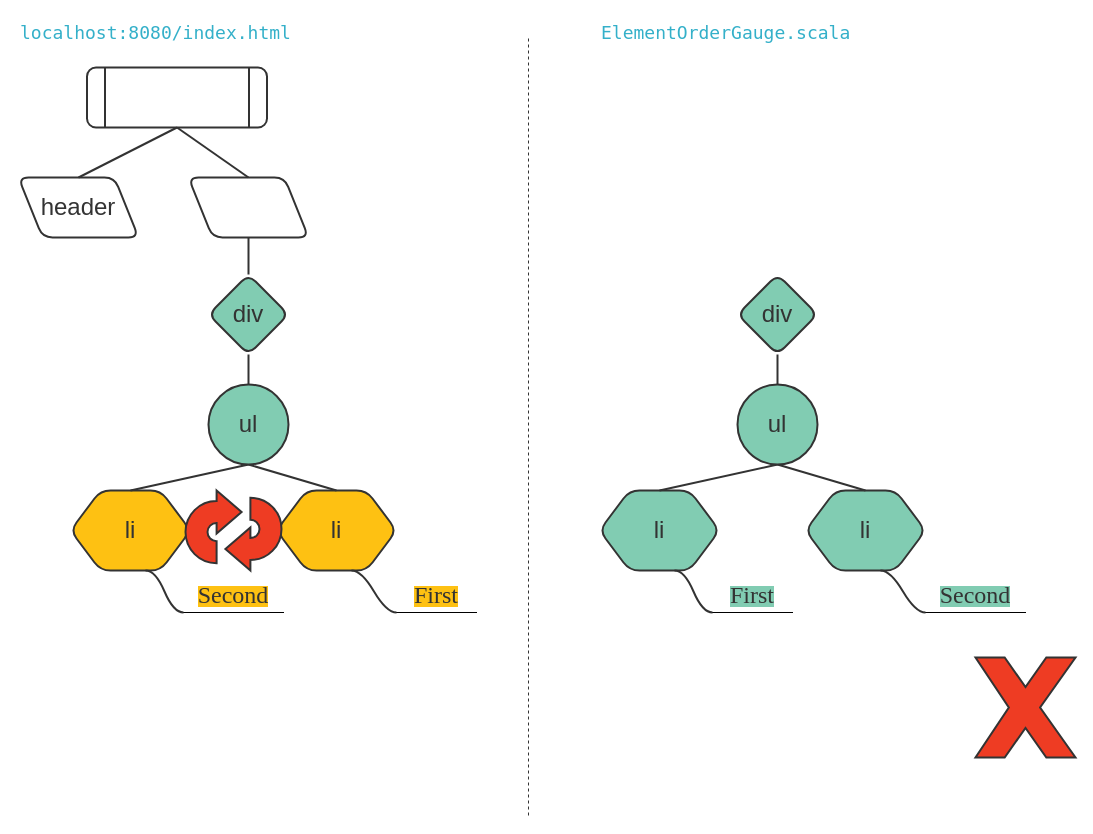
This 1093x834 diagram has some shape labels left out. Here are the shapes that lost their labels. From the top down, the box of each, then its label:
(86, 66, 268, 128): document
(187, 176, 309, 238): body
